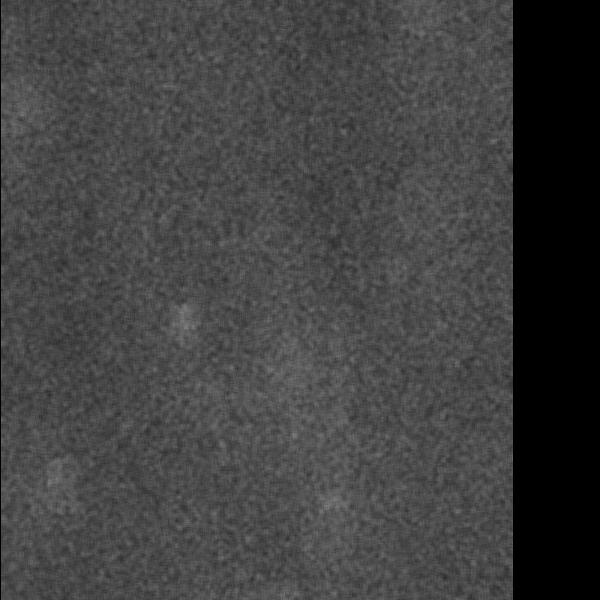spark: (32, 455, 86, 535), (171, 298, 196, 350), (316, 482, 345, 521)
